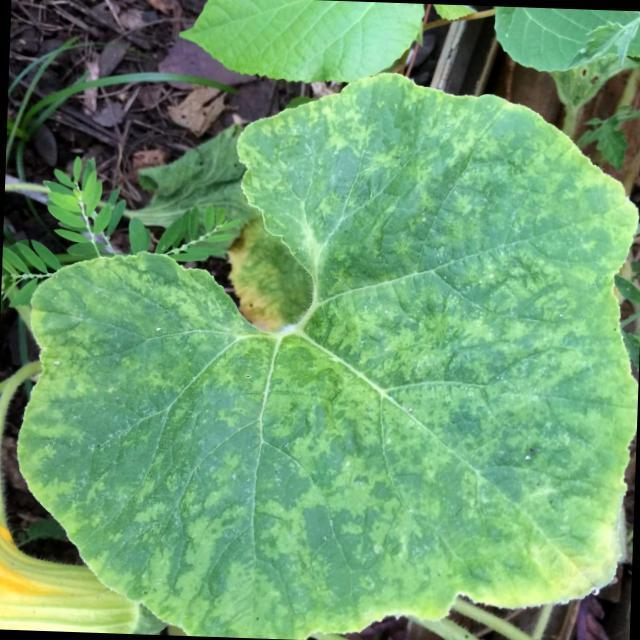Mosaic Virus: (0, 99, 640, 620)
